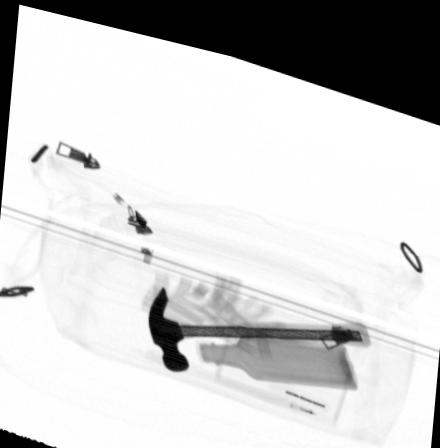Hammer: (146, 278, 371, 365)
